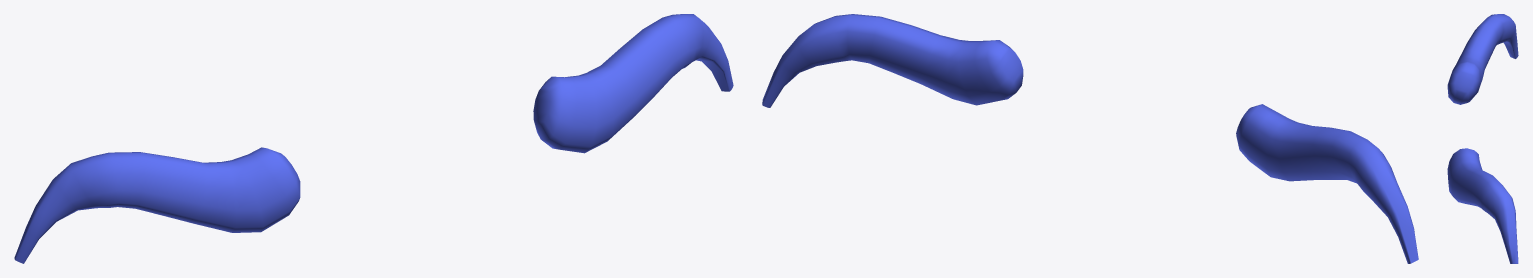
File: Eyebrows_28_03.fbx
3 views of the same model, side by side, from view 1: azimuth 30°, elevation 25°; view 2: azimuth 150°, elevation 25°; view 3: azimuth 270°, elevation 25° (orthographic). The views are drawn at different scales.
Parts seen in each view (by area): view 1: Eyebrows_28_03; view 2: Eyebrows_28_03; view 3: Eyebrows_28_03.
Boxes of the visible parts, <box> form: Eyebrows_28_03: <box>14,14,733,263</box>; Eyebrows_28_03: <box>762,14,1418,263</box>; Eyebrows_28_03: <box>1447,14,1518,263</box>.
Size of the model in its own units: 18.81 by 2.62 by 2.68.
